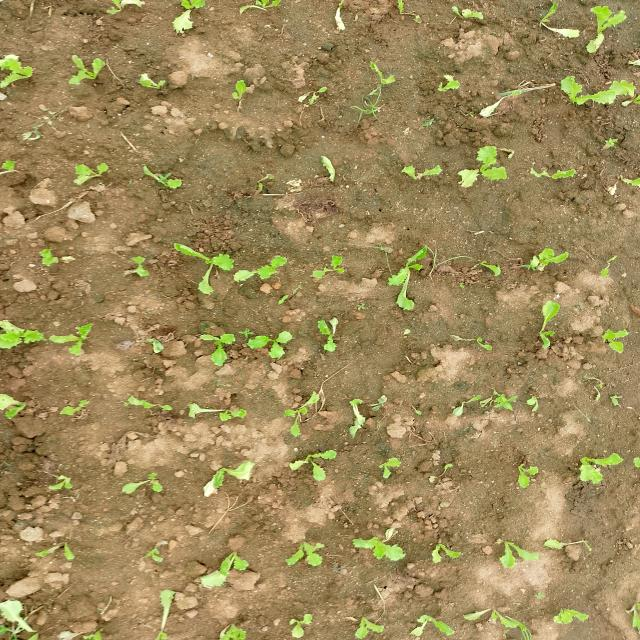Lettuce: (172, 243, 237, 295), (388, 238, 432, 314), (447, 144, 514, 192), (189, 548, 261, 588), (460, 600, 531, 640), (201, 457, 261, 501), (352, 524, 409, 567), (279, 530, 339, 570), (582, 7, 627, 58), (276, 392, 322, 440), (529, 299, 567, 355), (550, 73, 610, 108), (48, 318, 94, 361), (534, 2, 578, 46), (0, 317, 48, 357), (154, 588, 190, 638), (1, 600, 48, 638), (426, 530, 473, 568), (64, 54, 116, 88), (286, 450, 343, 481), (34, 534, 87, 567), (235, 256, 292, 286), (307, 251, 348, 291), (311, 316, 349, 359), (490, 535, 538, 569), (508, 453, 544, 498), (577, 454, 626, 486), (245, 330, 298, 359), (525, 245, 573, 275), (48, 390, 96, 420), (600, 74, 640, 110), (407, 612, 458, 640), (172, 0, 212, 35), (341, 396, 372, 441), (0, 54, 41, 88), (0, 384, 34, 425), (200, 328, 233, 368), (186, 402, 254, 421), (120, 469, 163, 498), (396, 163, 450, 186), (142, 164, 186, 192), (373, 450, 410, 483), (112, 251, 158, 277), (454, 330, 508, 352), (556, 597, 593, 628), (70, 158, 109, 186), (531, 163, 582, 184), (369, 62, 396, 101), (117, 393, 178, 410), (600, 320, 630, 354), (238, 0, 287, 20), (354, 614, 389, 640), (288, 612, 322, 638), (227, 76, 255, 106), (45, 472, 83, 494), (130, 545, 176, 563), (297, 85, 336, 106), (34, 244, 70, 266), (616, 162, 640, 194), (103, 1, 152, 16), (541, 541, 594, 554), (213, 623, 255, 639), (136, 72, 168, 92), (431, 76, 466, 94), (623, 594, 640, 631), (252, 170, 272, 197), (0, 154, 21, 178), (600, 134, 628, 151), (474, 260, 508, 274), (71, 626, 105, 640), (596, 256, 612, 283), (594, 361, 596, 368)
